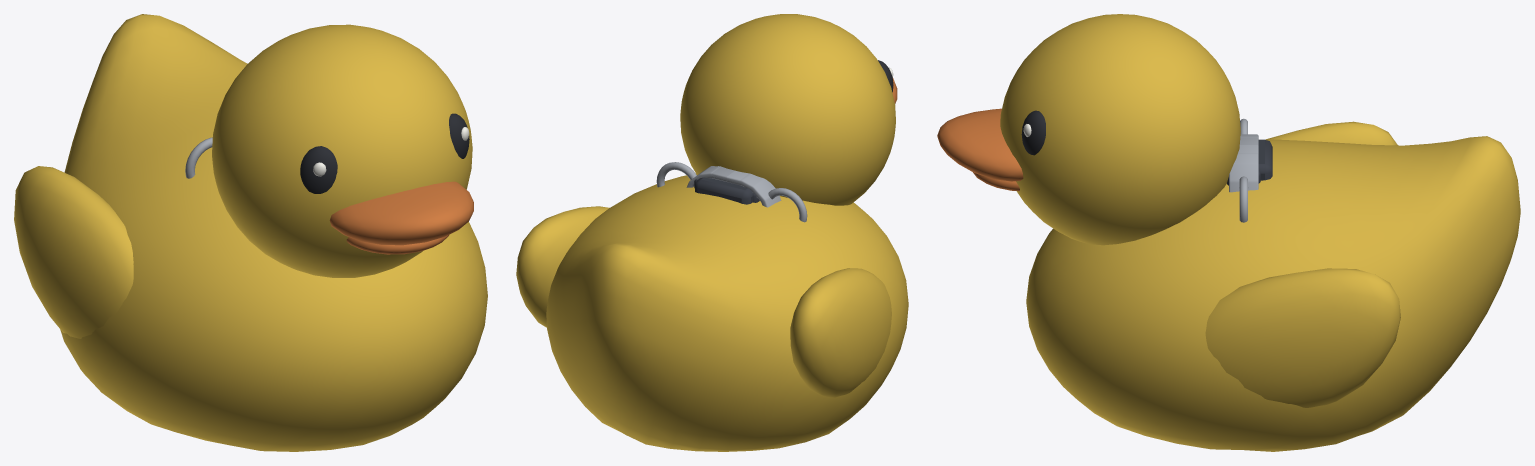
The model's file is items_upload_v2a.glb.
3 renders of one model, left to right at view 1: azimuth 30°, elevation 25°; view 2: azimuth 150°, elevation 25°; view 3: azimuth 270°, elevation 25°, orthographic. The views are drawn at different scales.
Visible parts, largest first — view 1: duck_body__pd6b445, duck_beak__pc9773d, duck_eye__p2b2d33, smoke_ring__pa3a8b0; view 2: duck_body__pd6b445, frag_spoon__pa3a8b0, frag_fuse__p3b3f48, smoke_ring__pa3a8b0, smoke_spoon__pa3a8b0, frag_ring__pa3a8b0; view 3: duck_body__pd6b445, duck_beak__pc9773d, smoke_spoon__pa3a8b0, duck_eye__p2b2d33.
Part boxes in pixels (bbox=[...]): duck_body__pd6b445: bbox=[14, 14, 487, 451]; duck_beak__pc9773d: bbox=[329, 181, 473, 254]; duck_eye__p2b2d33: bbox=[300, 113, 469, 193]; smoke_ring__pa3a8b0: bbox=[185, 137, 212, 178]; duck_body__pd6b445: bbox=[516, 14, 908, 451]; frag_spoon__pa3a8b0: bbox=[712, 166, 781, 207]; frag_fuse__p3b3f48: bbox=[694, 177, 752, 204]; smoke_ring__pa3a8b0: bbox=[768, 188, 807, 222]; smoke_spoon__pa3a8b0: bbox=[686, 166, 749, 187]; frag_ring__pa3a8b0: bbox=[656, 162, 696, 187]; duck_body__pd6b445: bbox=[1000, 14, 1520, 451]; duck_beak__pc9773d: bbox=[937, 108, 1023, 191]; smoke_spoon__pa3a8b0: bbox=[1229, 137, 1258, 192]; duck_eye__p2b2d33: bbox=[1021, 110, 1045, 155].
Bounding box in the file's own units: 4.2 × 4.4 × 5.9.
